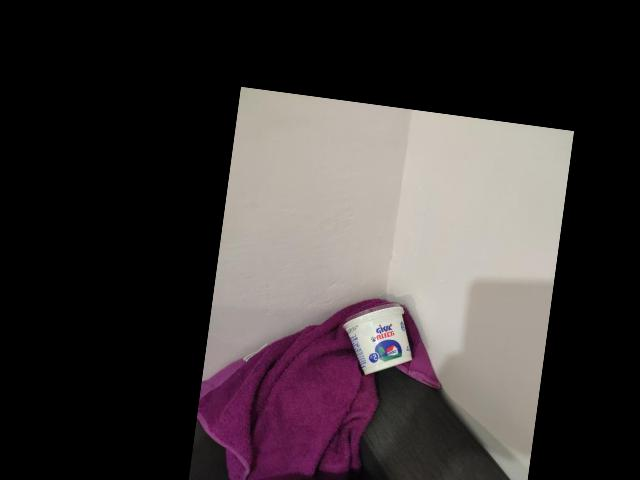cotage: (339, 294, 415, 376)
